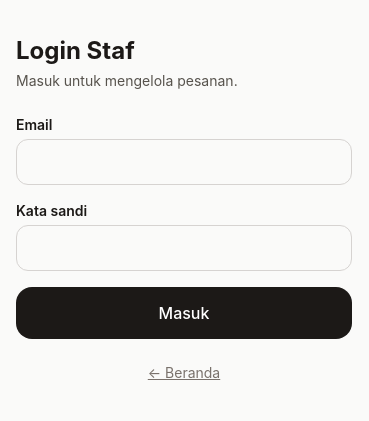
Test: StaffLoginPage › form kosong: menampilkan error, memfokuskan email, dan tidak memanggil server
The width and height of the screenshot is (369, 421).
Click the button "Masuk" at (184, 313), box x1=16 y1=287 x2=352 y2=339
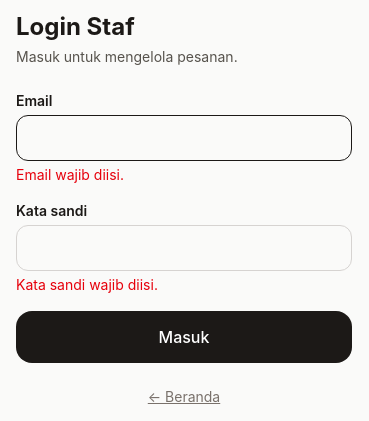
Result: the text "Email wajib diisi." is shown at x1=16 y1=166 x2=124 y2=183
Result: the text "Kata sandi wajib diisi." is shown at x1=16 y1=276 x2=158 y2=293
